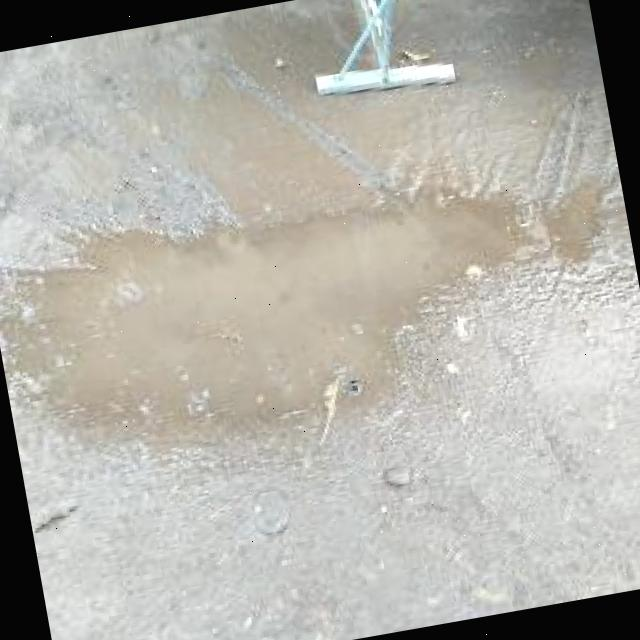waterlogging: (18, 163, 551, 481)
